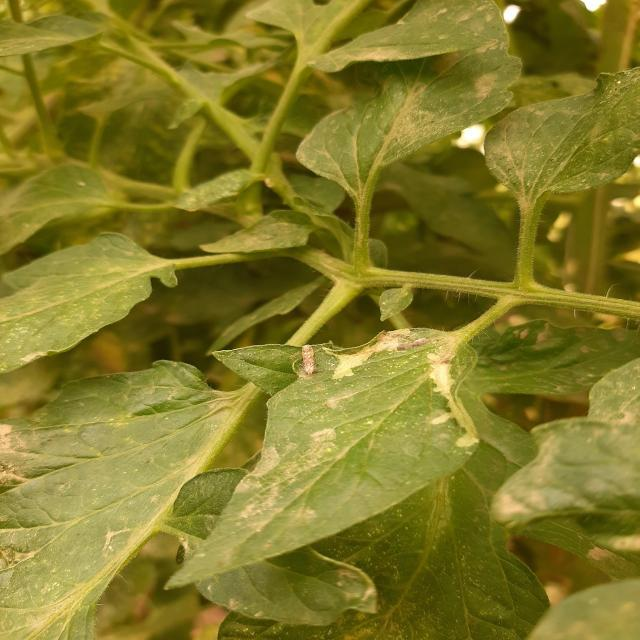Tuta absoluta: (412, 356, 481, 456), (323, 327, 432, 380)
